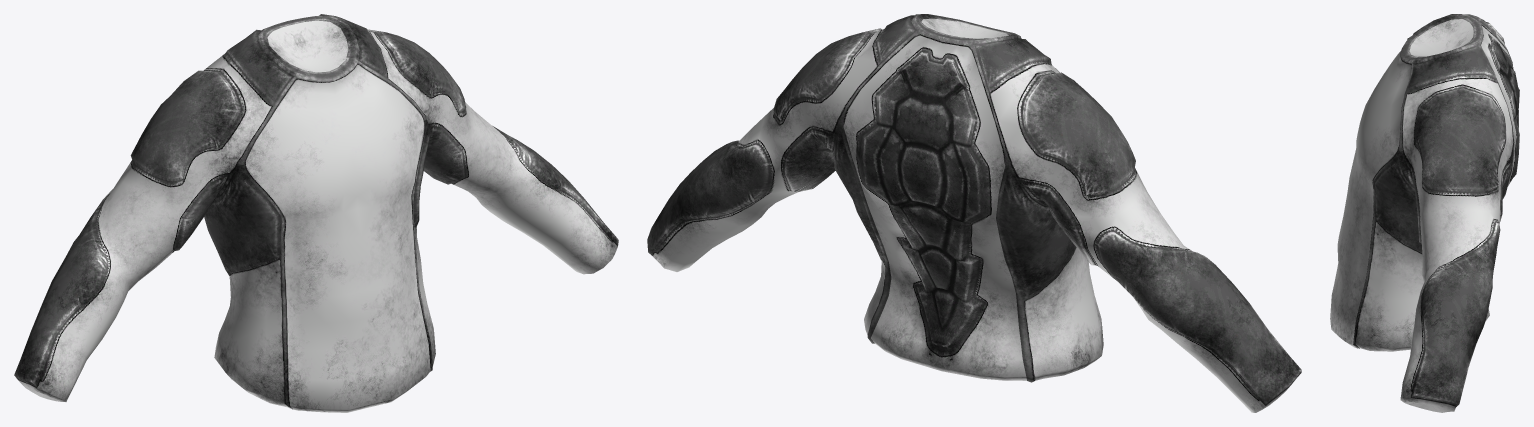
File: SurvivorMale_Chest_Tactical_Padded_LOD0.glb
3 views of the same model, side by side, from view 1: azimuth 30°, elevation 25°; view 2: azimuth 150°, elevation 25°; view 3: azimuth 270°, elevation 25° (orthographic). The views are drawn at different scales.
Visible parts, largest first — view 1: Hoodie; view 2: Hoodie; view 3: Hoodie.
Boxes of the visible parts, left/top/right/bottom form: Hoodie: left=14, top=14, right=618, bottom=412; Hoodie: left=647, top=14, right=1301, bottom=412; Hoodie: left=1330, top=14, right=1519, bottom=412.
Size of the model in its own units: 1.14 by 0.6059 by 0.3538.
Materials: 1 (1 with a texture image).
